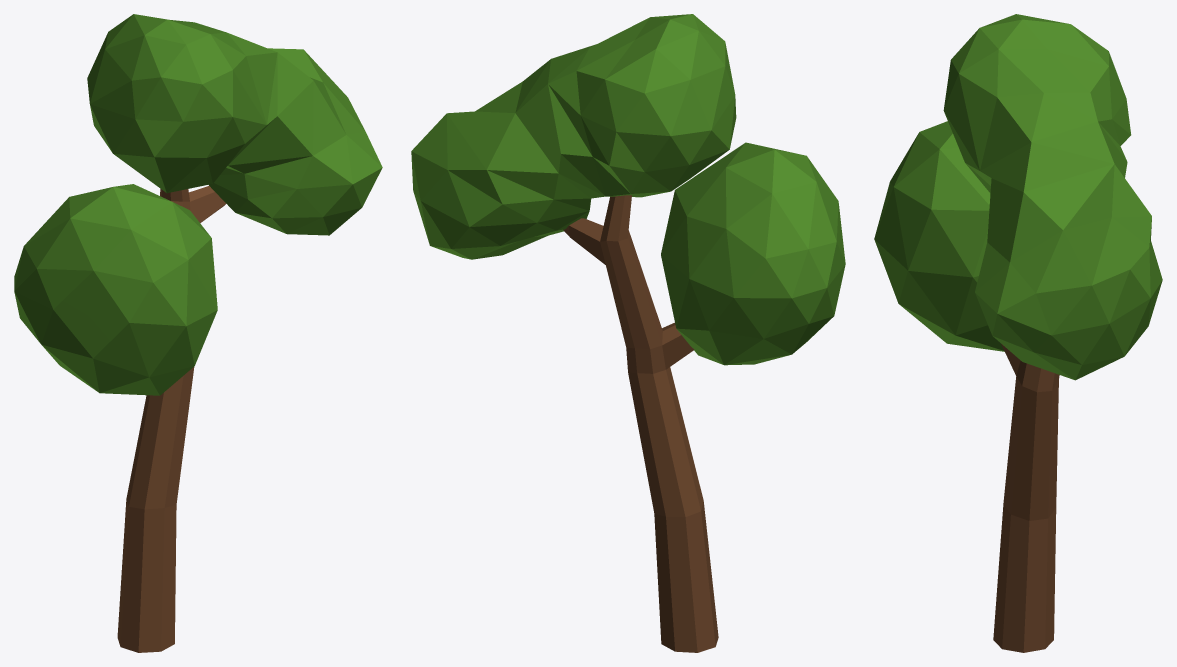
Rendered from tree4.fbx.
The picture shows the model from 3 angles, left to right: view 1: azimuth 30°, elevation 25°; view 2: azimuth 150°, elevation 25°; view 3: azimuth 270°, elevation 25°; orthographic projection. The views are drawn at different scales.
Parts seen in each view (by area): view 1: Norm_Tree_Branches.003; view 2: Norm_Tree_Branches.003; view 3: Norm_Tree_Branches.003.
Boxes of the visible parts, x1,y1,x2,y2 form: Norm_Tree_Branches.003: (14,14,382,652); Norm_Tree_Branches.003: (411,14,845,652); Norm_Tree_Branches.003: (874,14,1162,652).
Bounding box in the file's own units: 361 × 573 × 237.
